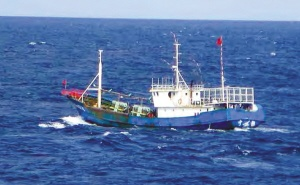otherboat: (62, 41, 262, 130)
